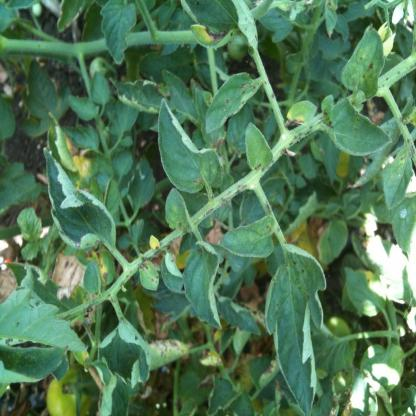Tomato leaf bacterial spot: (32, 140, 132, 275), (262, 246, 337, 409), (152, 104, 226, 195), (308, 100, 393, 162), (338, 22, 393, 108), (210, 210, 285, 271), (202, 63, 265, 135), (130, 256, 163, 299)
